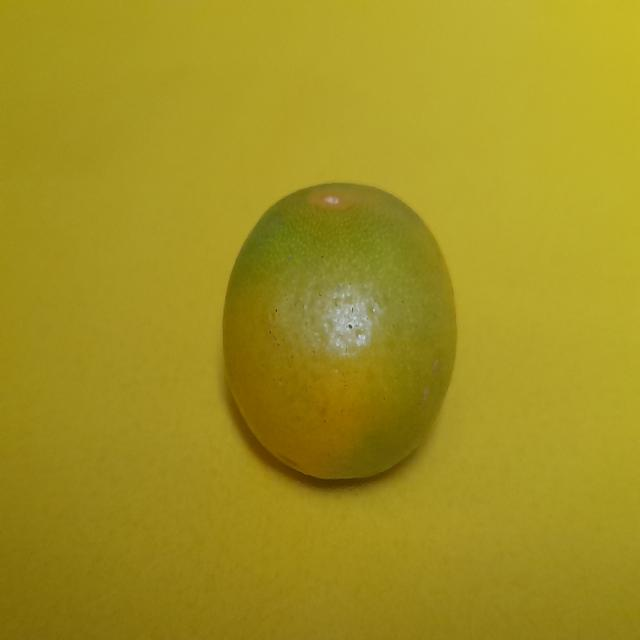greening: (208, 175, 466, 491)
